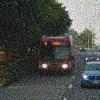buses: (38, 36, 76, 74)
